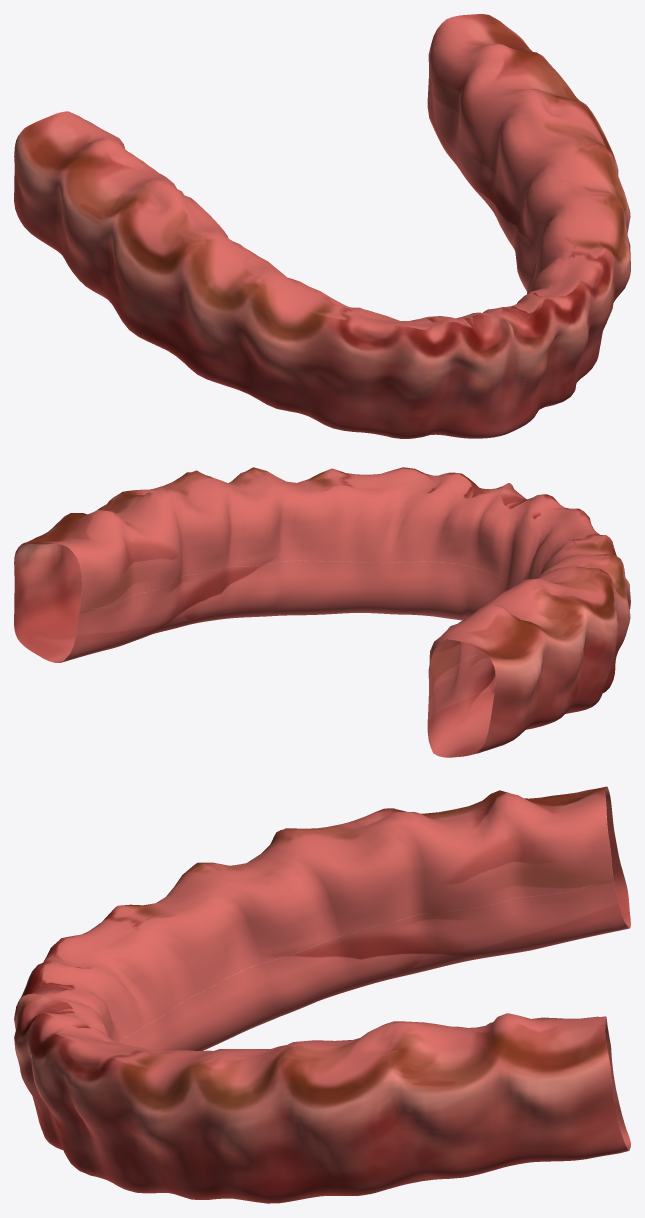
File: GumBottom.glb
3 renders of one model, top to bottom at view 1: azimuth 30°, elevation 25°; view 2: azimuth 150°, elevation 25°; view 3: azimuth 270°, elevation 25°, orthographic. The views are drawn at different scales.
Parts seen in each view (by area): view 1: GumBottom; view 2: GumBottom; view 3: GumBottom.
Part boxes in pixels (x1=…): GumBottom: x1=14, y1=14, x2=630, y2=438; GumBottom: x1=14, y1=467, x2=630, y2=757; GumBottom: x1=14, y1=786, x2=630, y2=1203.
Bounding box in the file's own units: 2.03 × 0.7655 × 1.86.
1 material, 1 textured.
